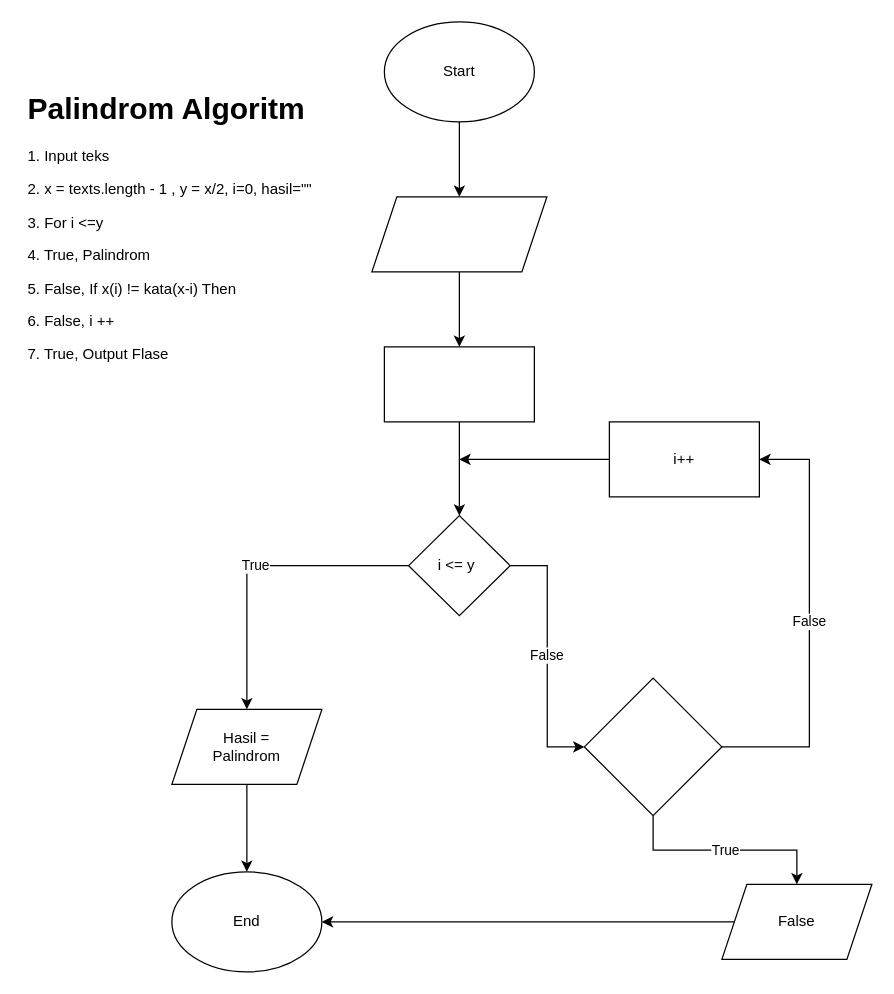
The diagram is 894 pixels wide and 994 high, and some of its shapes have lost their labels. The centre of each missing label's shape, as x and y in pixels:
If(x(i) != teks(x-i)): pixel 652 746
Input teks: pixel 459 234
x = teks.length - 1 y = x/2 i = 0 Hasil = "": pixel 458 384
